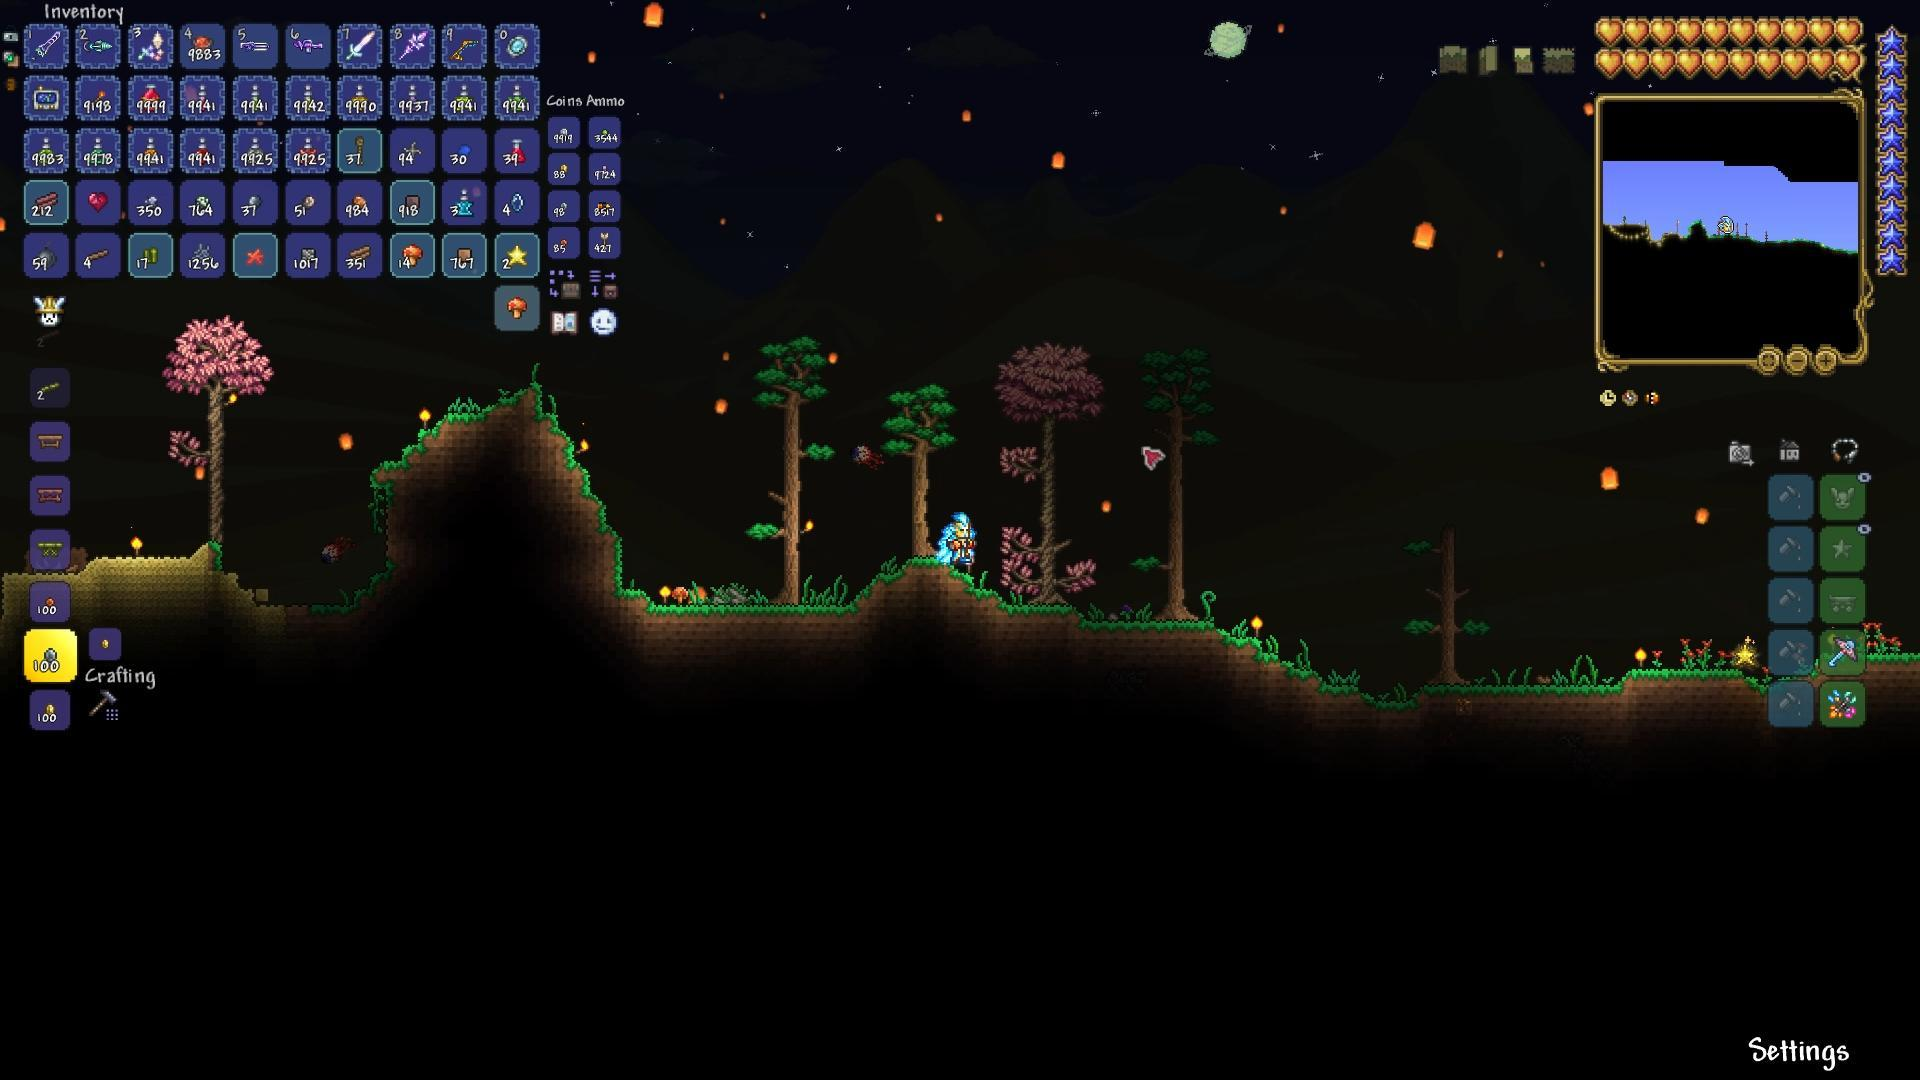mirror: (502, 33, 530, 62)
star: (502, 244, 530, 269), (1735, 644, 1756, 667)
